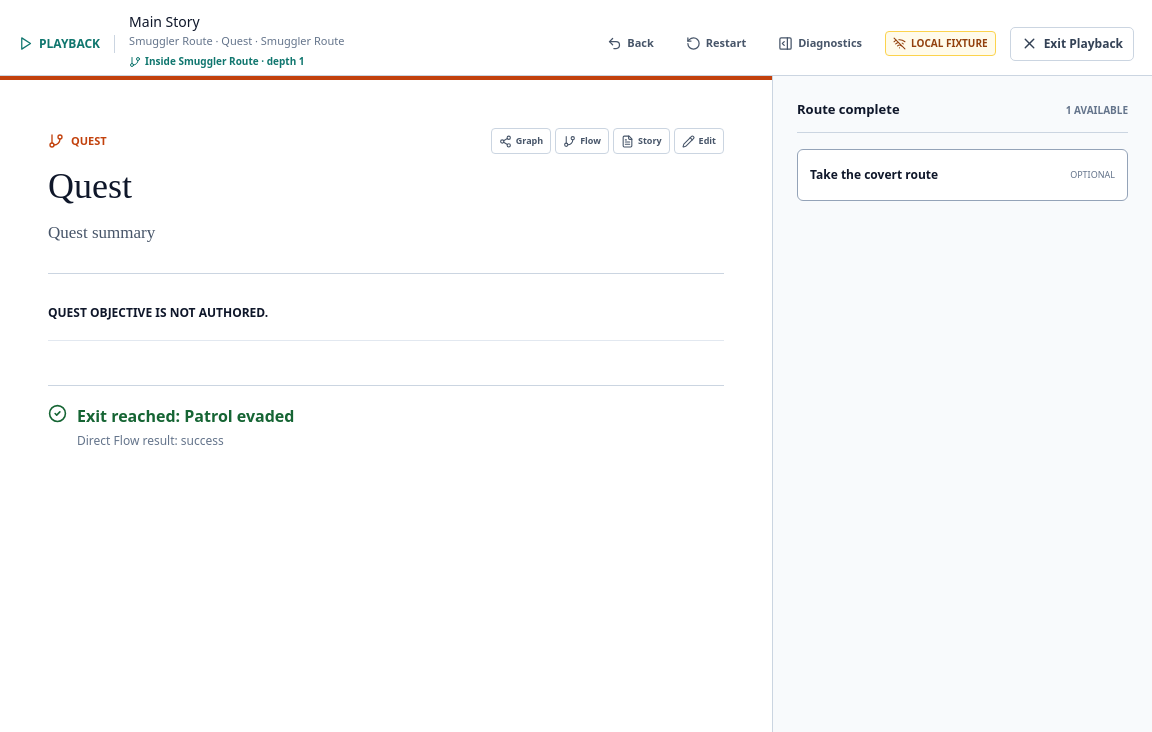
PlaybackWorkspace › shows composed Flow depth, terminal result, and trace operations
This screenshot has width=1152, height=732.
Expected: the element named "Call depth 1" shows "Inside Smuggler Route", x1=145 y1=54 x2=305 y2=68
Expected: the text "Exit reached: Patrol evaded" is shown, x1=77 y1=404 x2=294 y2=428
Click the button "Diagnostics" at x=820, y=44, box x1=769 y1=28 x2=871 y2=60
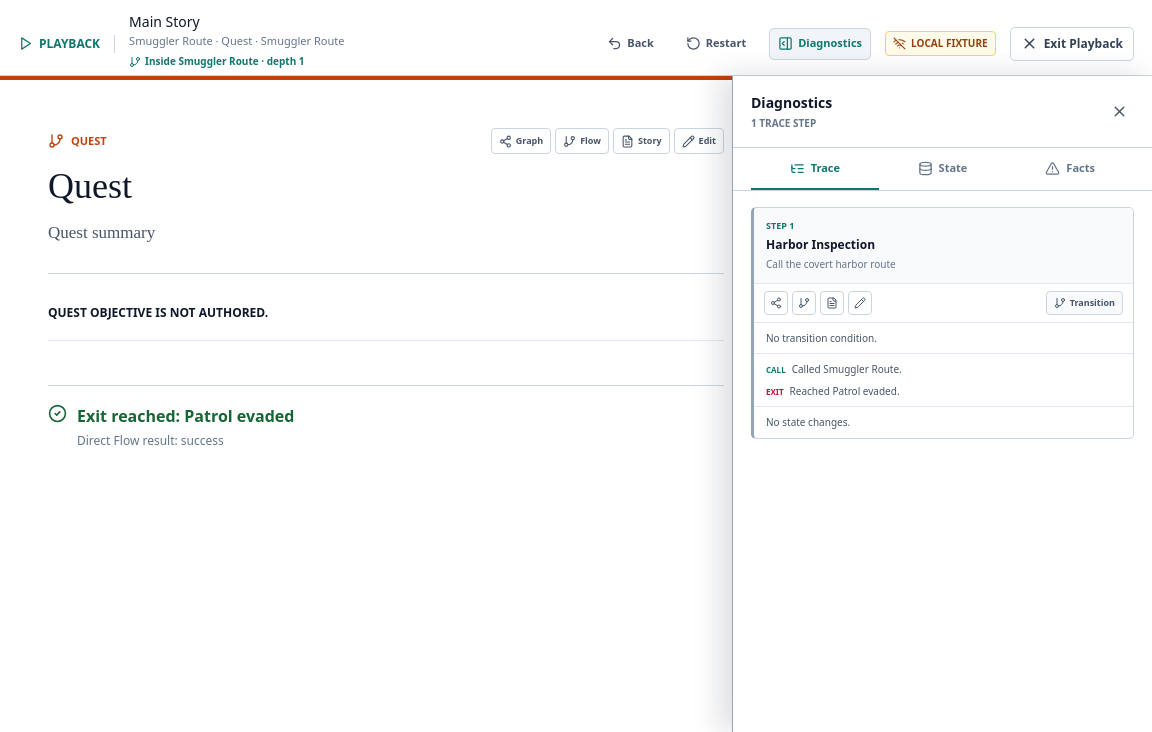
Expected: the element named "Composed Flow operations" shows "Called Smuggler Route", x1=792 y1=362 x2=902 y2=376
Expected: the element named "Composed Flow operations" shows "Reached Patrol evaded", x1=790 y1=384 x2=900 y2=398
